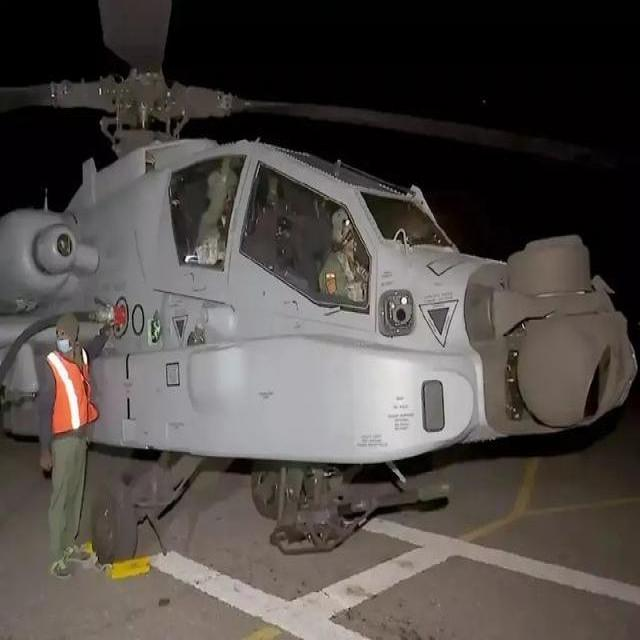MIL_HELO: (0, 0, 630, 566)
